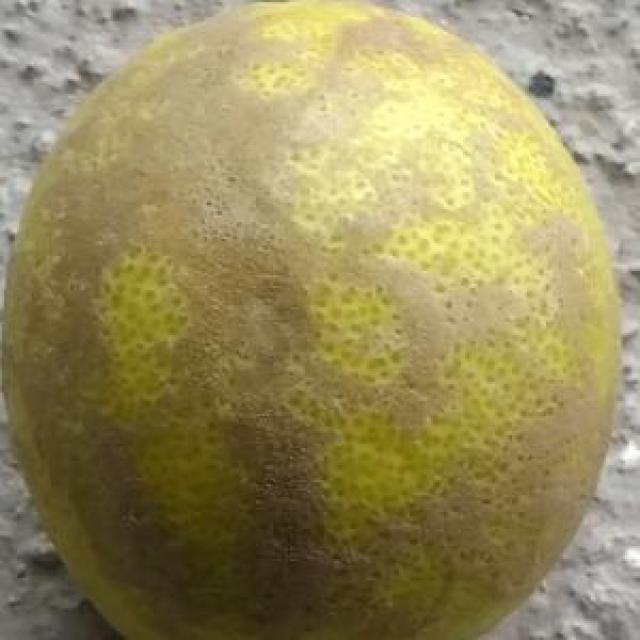lemon: (5, 4, 637, 636)
